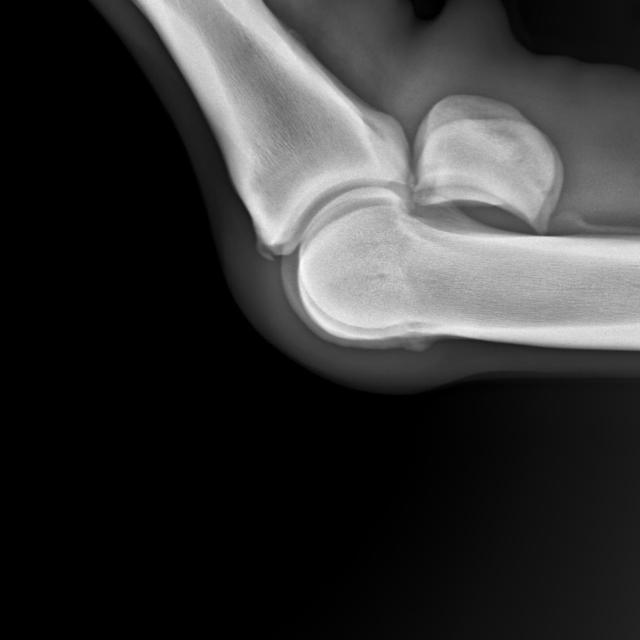joint-ht8A: (182, 39, 592, 385)
